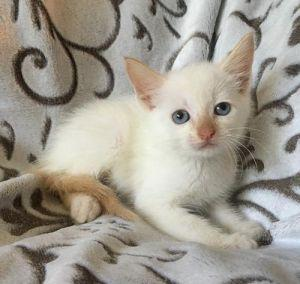siamese: (118, 30, 262, 171)
